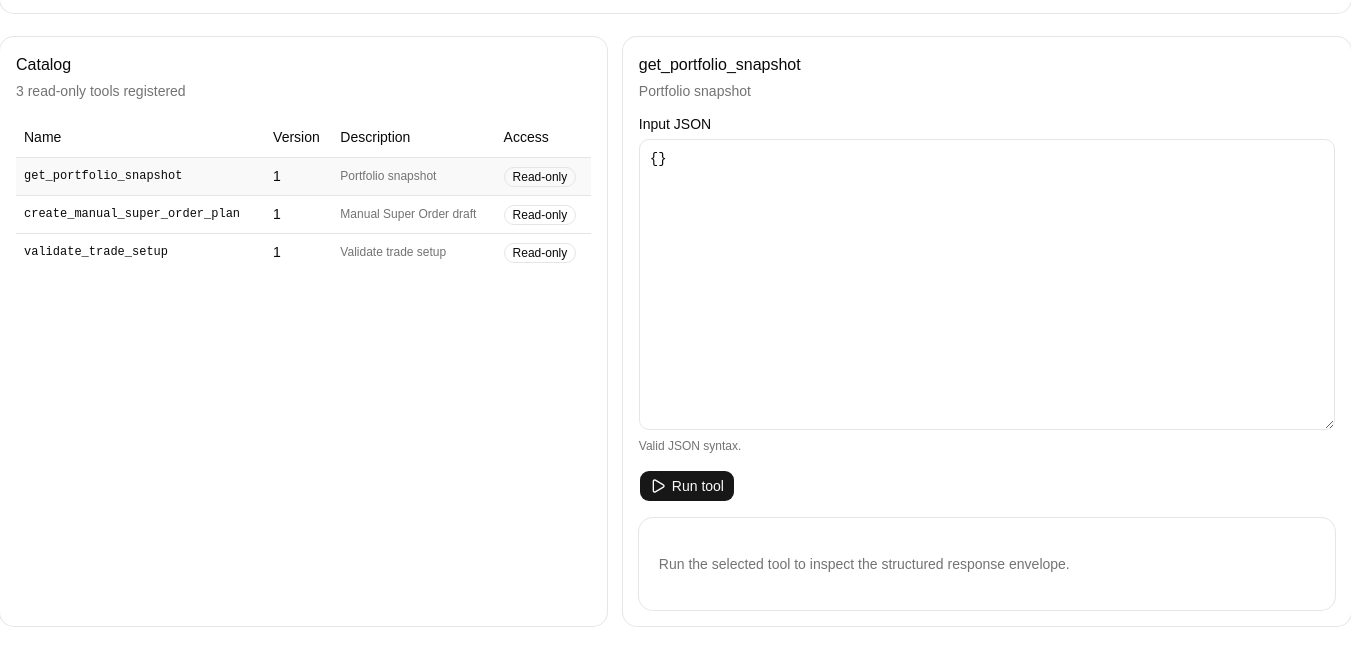
Test case: ToolTesterPage › renders server validation errors from rejected envelopes
This screenshot has width=1366, height=648.
Expected: the table with test id "tool-catalog-table" is shown, [16,117,591,270]
Step 1. Click the row with test id "tool-row-validate_trade_setup" → coordinates (96, 252), box [16,233,591,270]
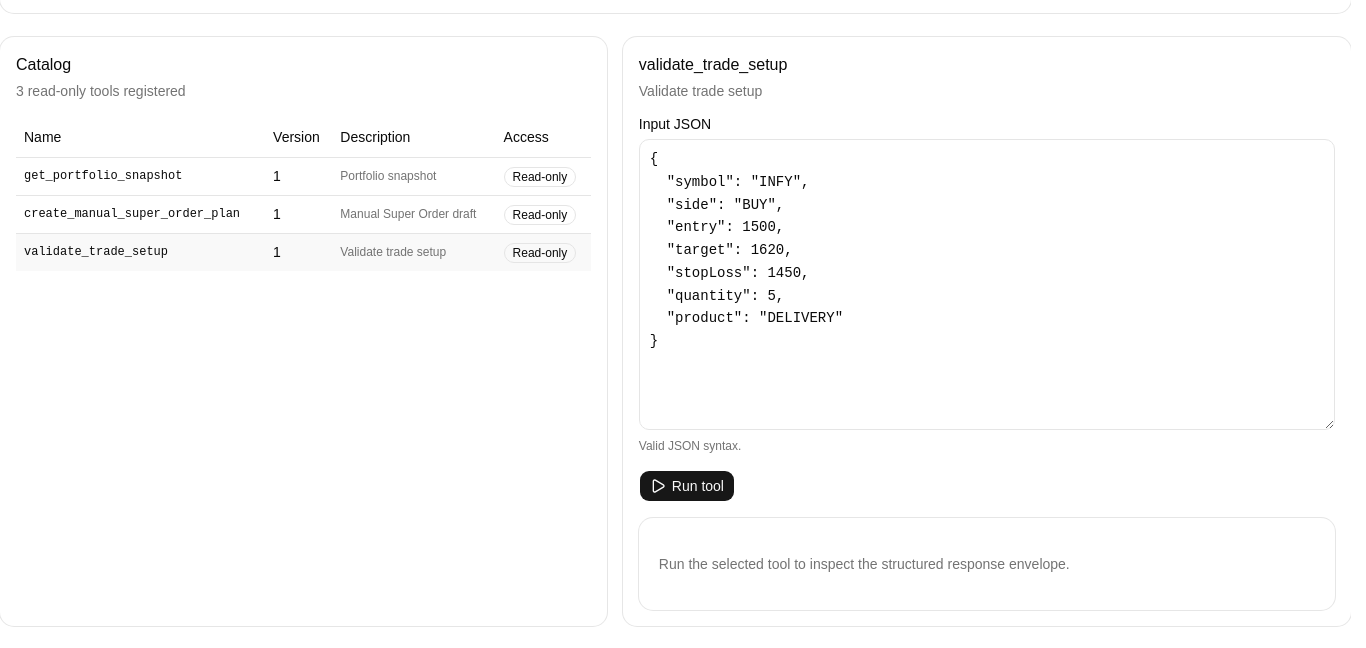
Step 2. Click the button with test id "tool-run-button" → coordinates (687, 486), box [639,470,735,502]
(page scrolled)
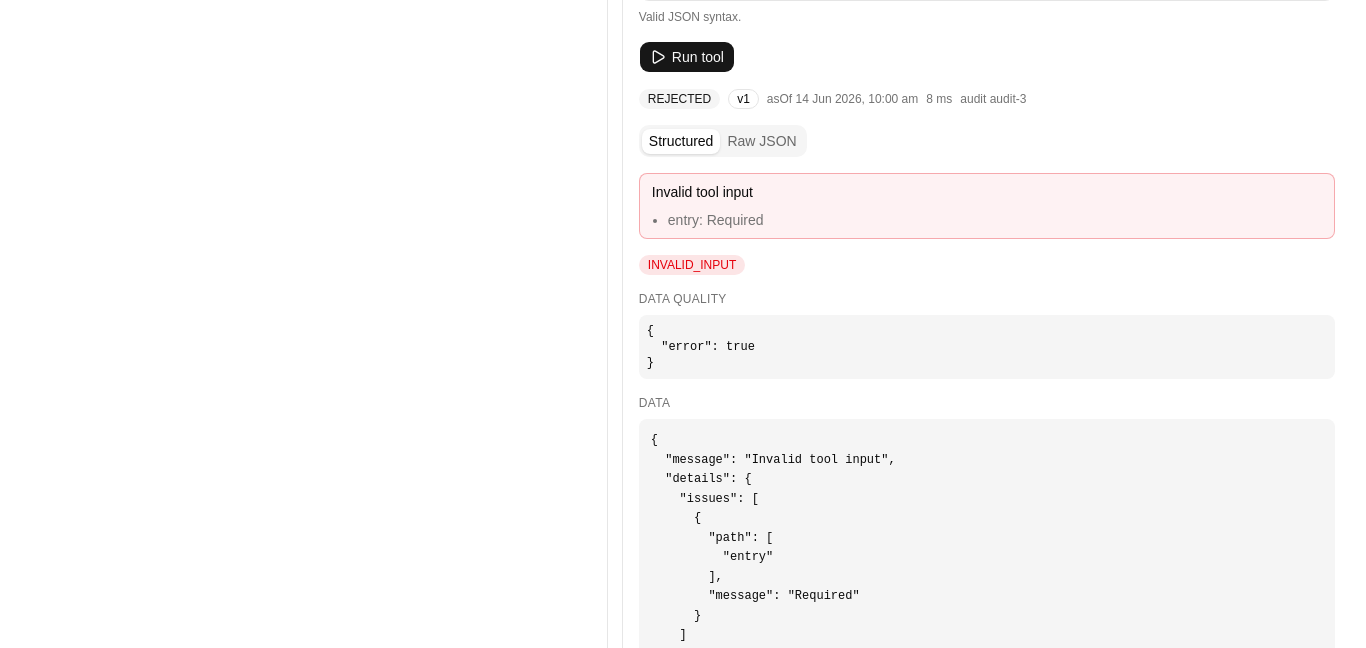
Expected: the element with test id "server-validation-error" shows "Invalid tool input", [652,184,753,200]
Expected: the element with test id "reject-reason-list" reads "INVALID_INPUT", [648,258,736,272]
